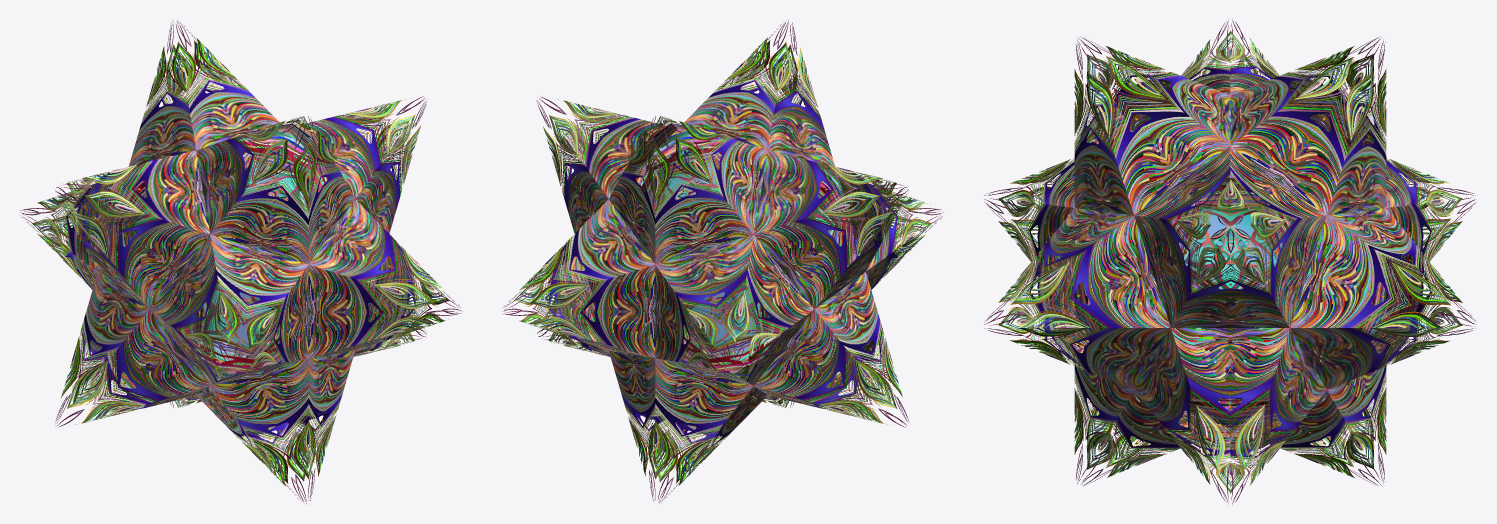
The model's file is SmallStellatedDodecahedron13.obj.
The picture shows the model from 3 angles, left to right: view 1: azimuth 30°, elevation 25°; view 2: azimuth 150°, elevation 25°; view 3: azimuth 270°, elevation 25°; orthographic projection. The views are drawn at different scales.
Bounding box in the file's own units: 1 × 1 × 1.
1 material, 1 textured.
